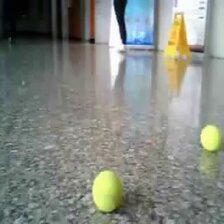tennis: (92, 169, 123, 212), (199, 124, 222, 152)
